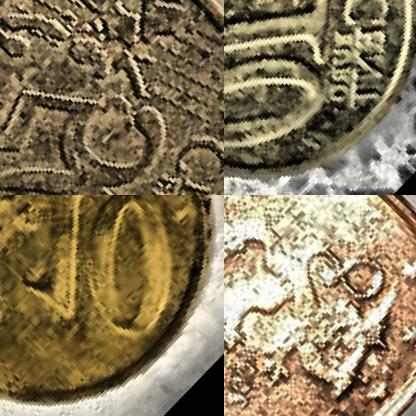coin: (0, 195, 223, 415), (0, 0, 223, 194), (224, 195, 415, 415), (224, 0, 415, 194)
